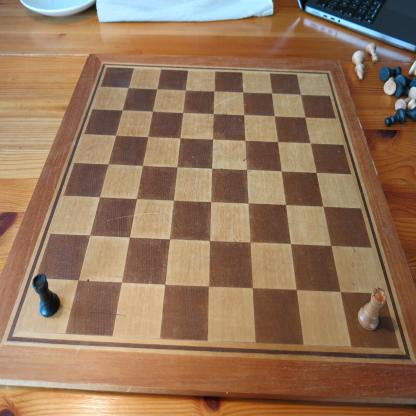black-pawn: (384, 108, 406, 127)
black-rook: (31, 272, 61, 318)
white-bishop: (351, 50, 365, 81)
white-pawn: (366, 42, 380, 63)
white-rook: (358, 286, 388, 332)
